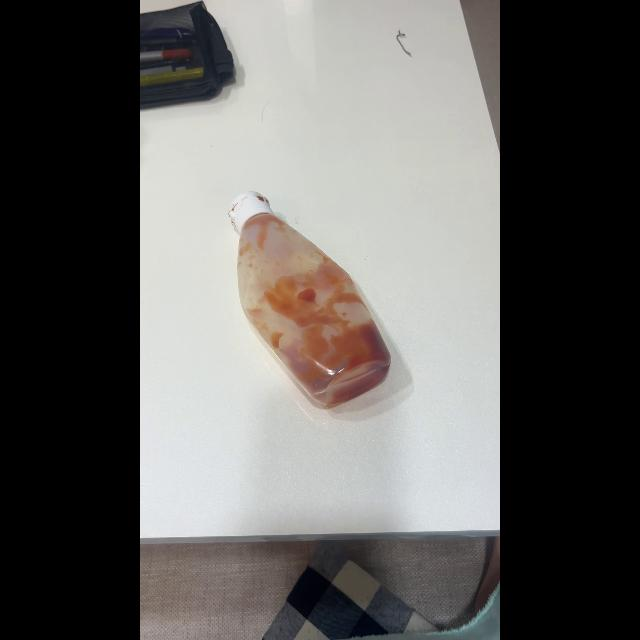dirty: (222, 192, 394, 406)
